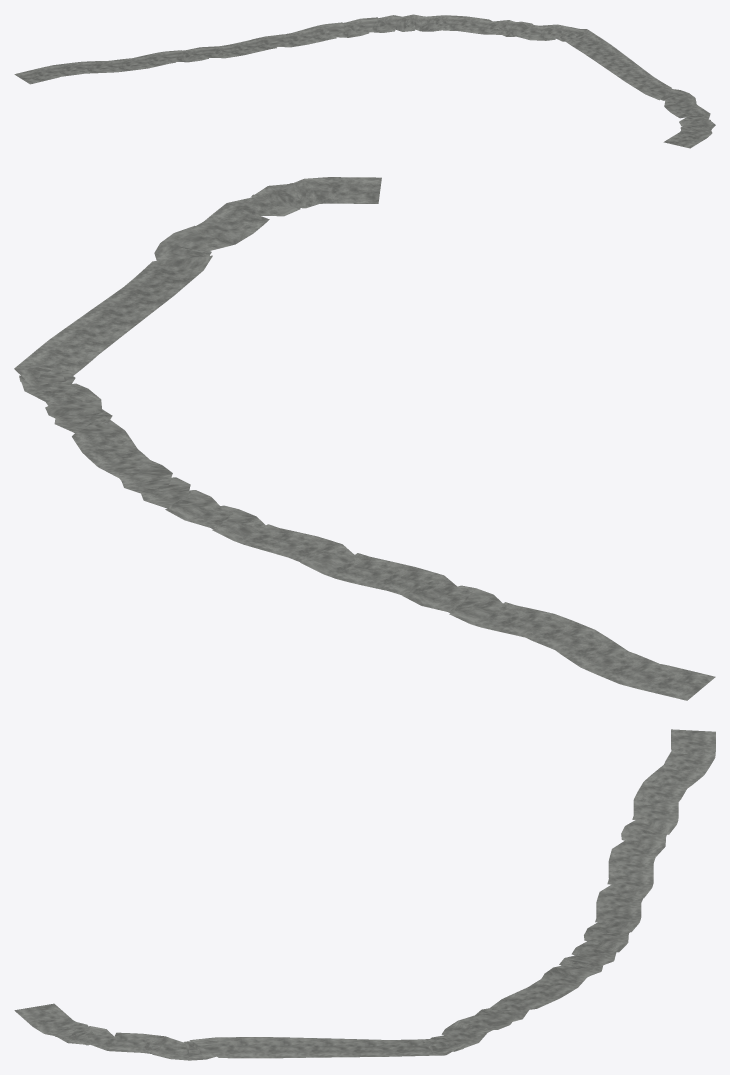
The model's file is RD-ROAD-016.obj.
3 views of the same model, one above another, from view 1: azimuth 30°, elevation 25°; view 2: azimuth 150°, elevation 25°; view 3: azimuth 270°, elevation 25° (orthographic). The views are drawn at different scales.
Parts seen in each view (by area): view 1: RD-ROAD-016; view 2: RD-ROAD-016; view 3: RD-ROAD-016.
Part boxes in pixels (bbox=[...]): RD-ROAD-016: bbox=[14, 14, 715, 148]; RD-ROAD-016: bbox=[14, 177, 715, 700]; RD-ROAD-016: bbox=[14, 729, 715, 1060].
Size of the model in its own units: 73.61 by 1.26 by 66.14.
Materials: 1 (1 with a texture image).
